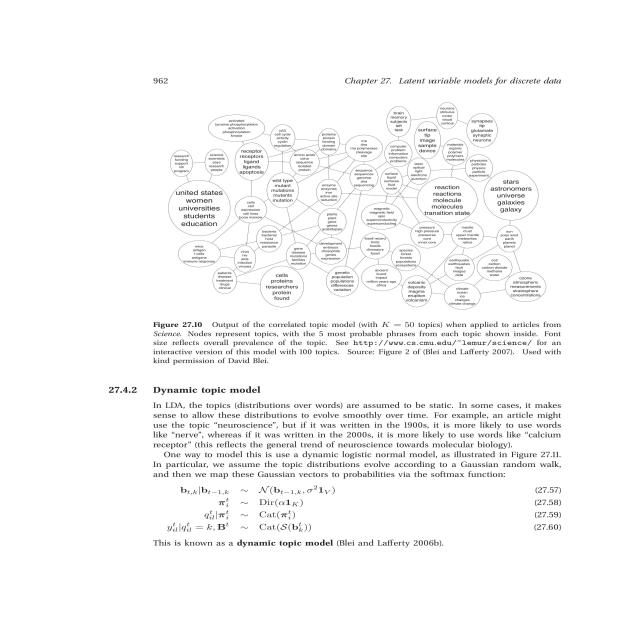diagram: (125, 98, 627, 372)
